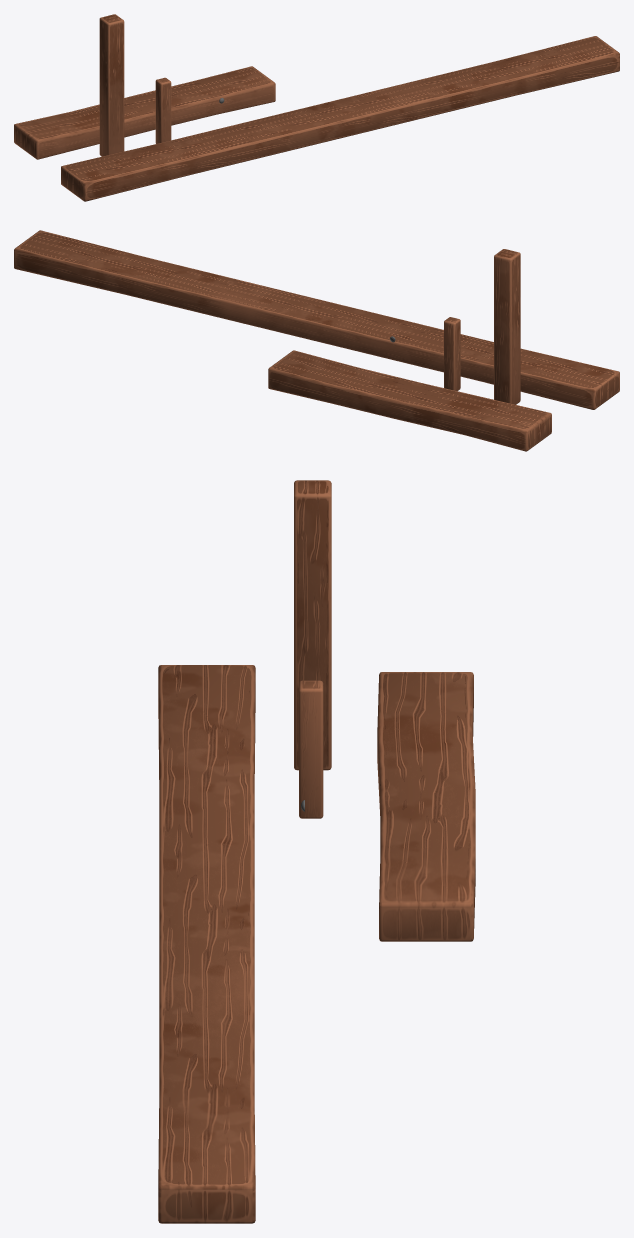
The model's file is bench_parts.fbx.
3 views of the same model, one above another, from view 1: azimuth 30°, elevation 25°; view 2: azimuth 150°, elevation 25°; view 3: azimuth 270°, elevation 25° (orthographic). The views are drawn at different scales.
Parts seen in each view (by area): view 1: plank_1, plank_2, leg, support; view 2: plank_1, plank_2, leg, support; view 3: plank_1, plank_2, leg, support.
Part boxes in pixels (x1,y1,x2,y2): plank_1: (61,36,619,201); plank_2: (14,66,275,159); leg: (99,14,124,156); support: (155,77,171,143); plank_1: (14,230,619,409); plank_2: (268,350,551,451); leg: (494,249,520,404); support: (444,317,460,391); plank_1: (158,665,255,1223); plank_2: (377,672,475,941); leg: (294,480,331,770); support: (299,680,323,818).
Size of the model in its own units: 13 by 3.24 by 3.33.
